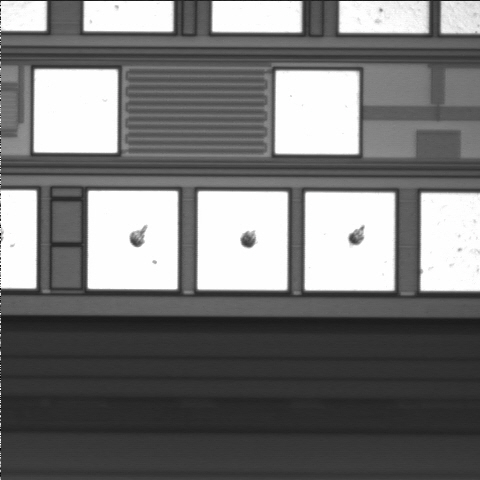pad: (197, 191, 288, 290), (305, 192, 395, 291), (88, 191, 178, 289), (34, 69, 118, 153), (275, 71, 359, 154)
